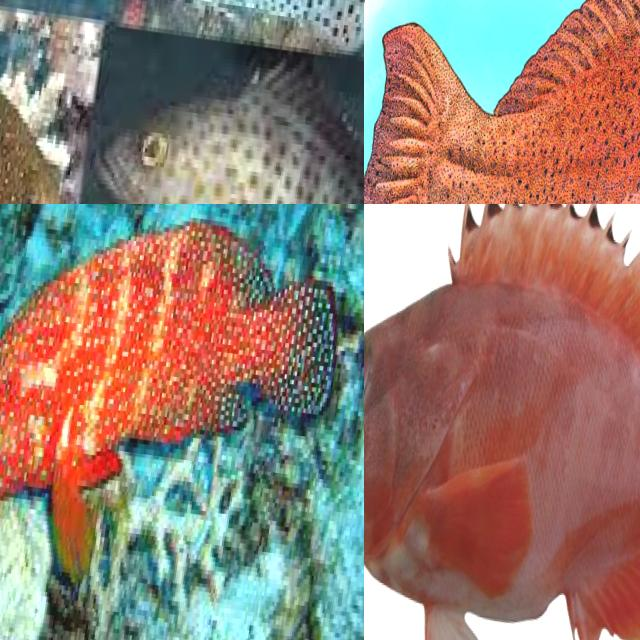Plectropomus-leopardus: (0, 204, 364, 628), (364, 204, 640, 640), (364, 0, 640, 204), (0, 0, 173, 152)
